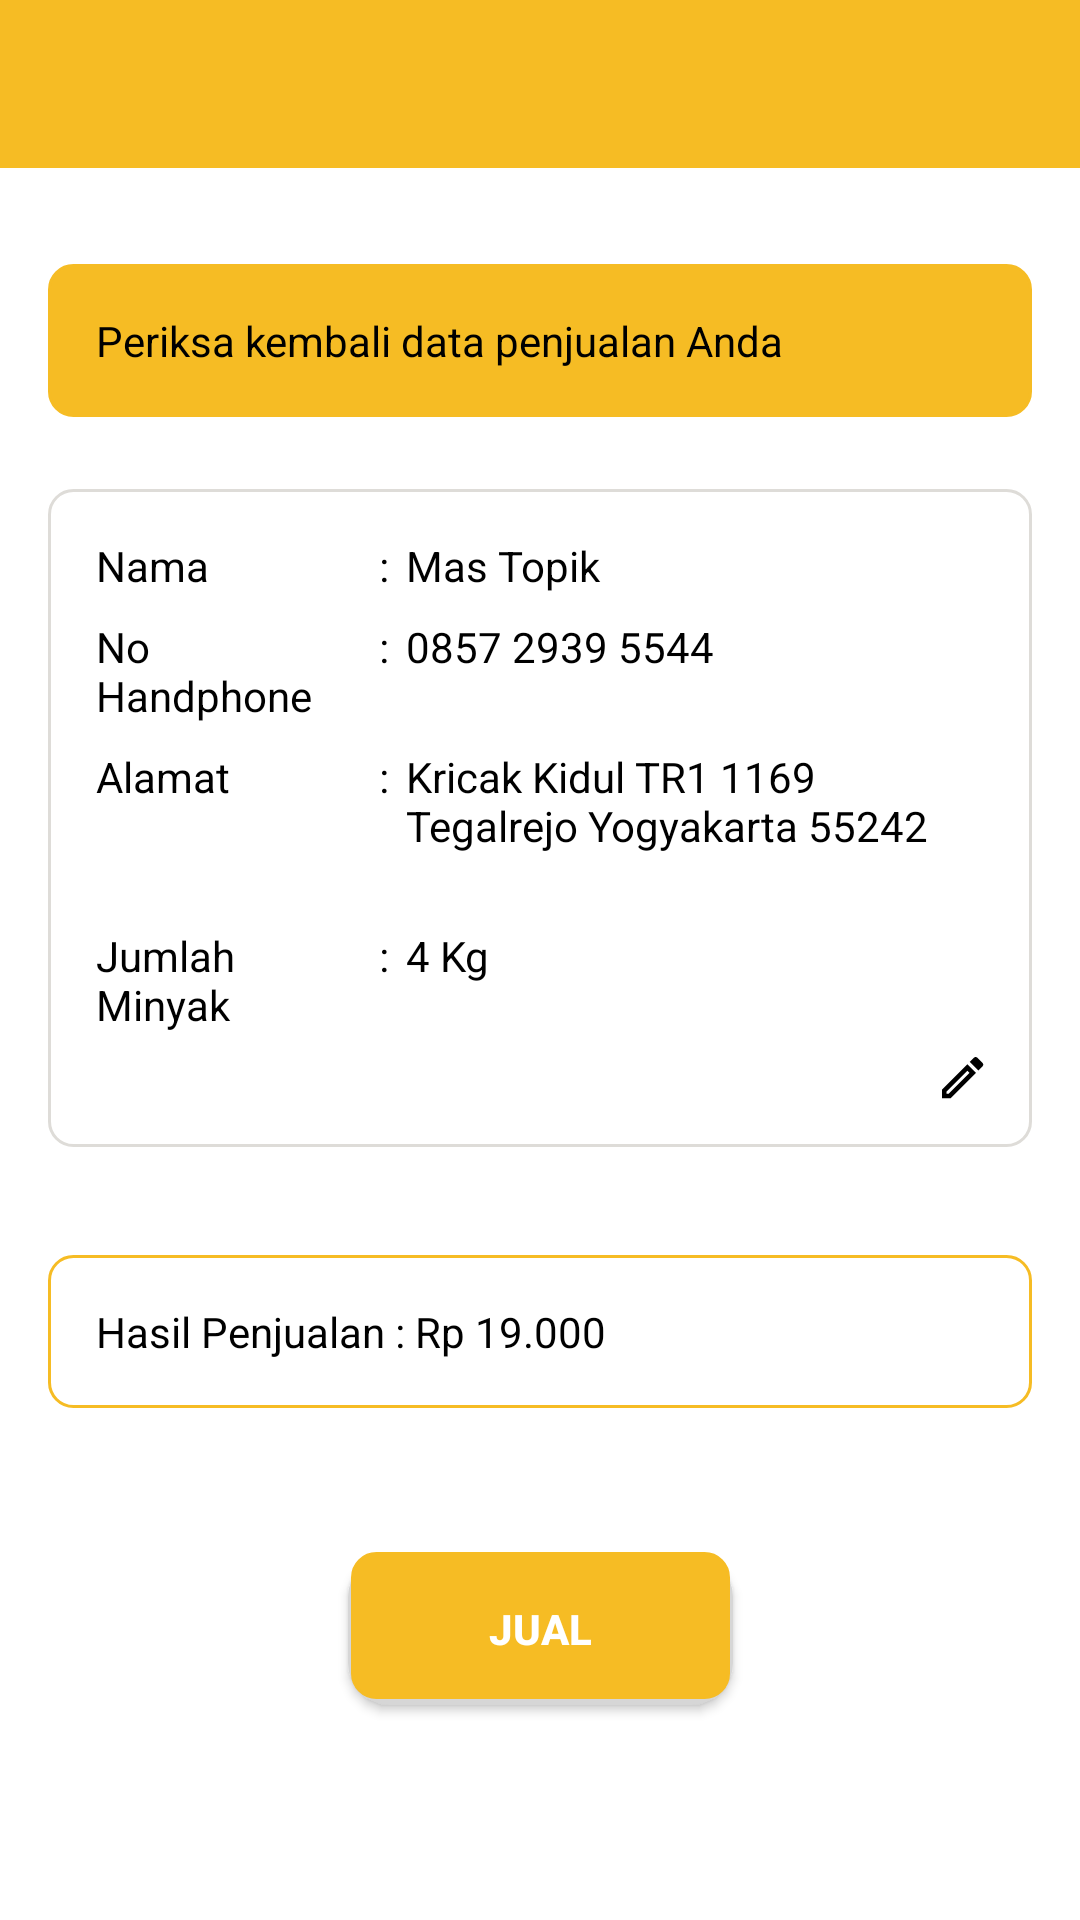

Icons on this 1080x1920 Android screen, each with the point to tap as [x,y]:
pencil: [963,1078]
